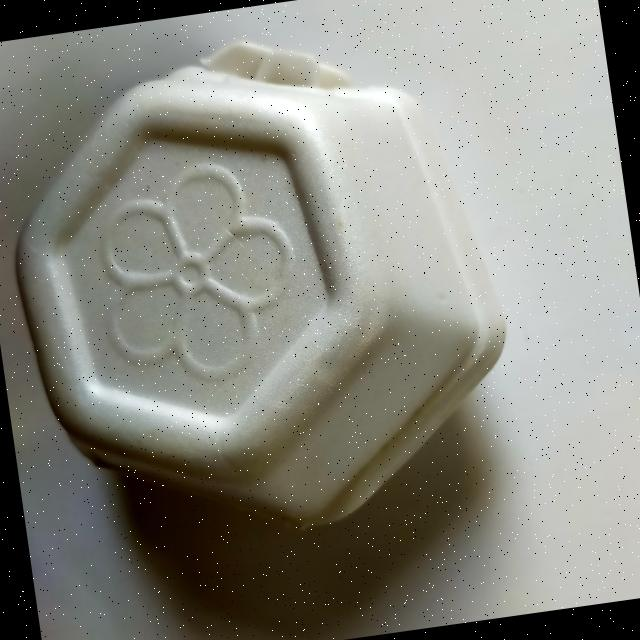styrofoam: (0, 7, 532, 566)
